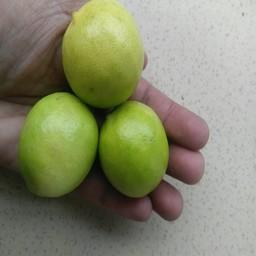Good_lime: (60, 0, 144, 109), (16, 89, 98, 198), (98, 102, 170, 198)
